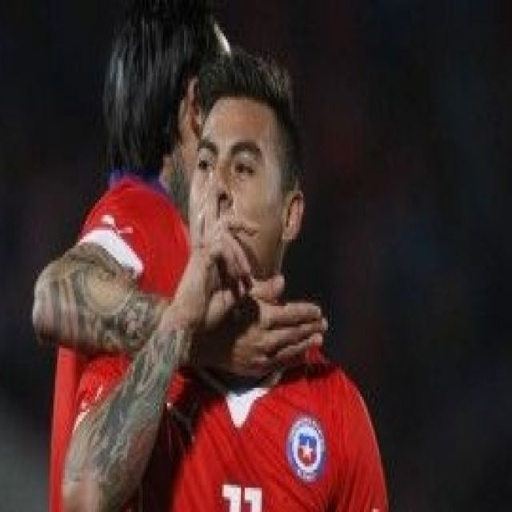hand: (173, 165, 260, 339), (209, 288, 339, 385)
